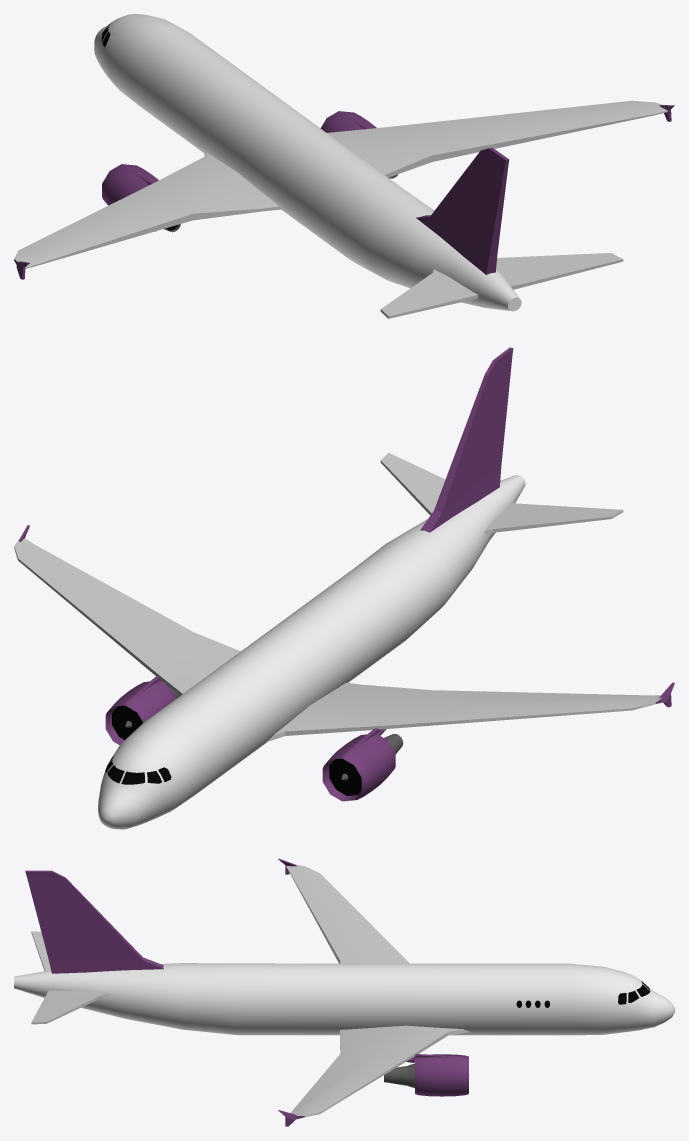
3 renders of one model, top to bottom at view 1: azimuth 30°, elevation 25°; view 2: azimuth 150°, elevation 25°; view 3: azimuth 270°, elevation 25°, orthographic. The views are drawn at different scales.
Parts seen in each view (by area): view 1: Cylinder, Cube, Cube.001, Torus; view 2: Cylinder, Cube, Cube.001, Torus; view 3: Cylinder, Cube, Cube.001, Torus.
Part boxes in pixels (x1,y1,x2,y2): Cylinder: [94, 14, 521, 311]; Cube: [14, 100, 674, 318]; Cube.001: [416, 147, 509, 274]; Torus: [102, 111, 397, 232]; Cylinder: [98, 475, 525, 829]; Cube: [14, 453, 674, 742]; Cube.001: [420, 347, 513, 532]; Torus: [105, 676, 403, 801]; Cylinder: [14, 963, 674, 1035]; Cube: [31, 858, 470, 1126]; Cube.001: [25, 870, 163, 973]; Torus: [384, 1054, 469, 1096].
Bounding box in the file's own units: 2.64 × 0.8815 × 2.91.
